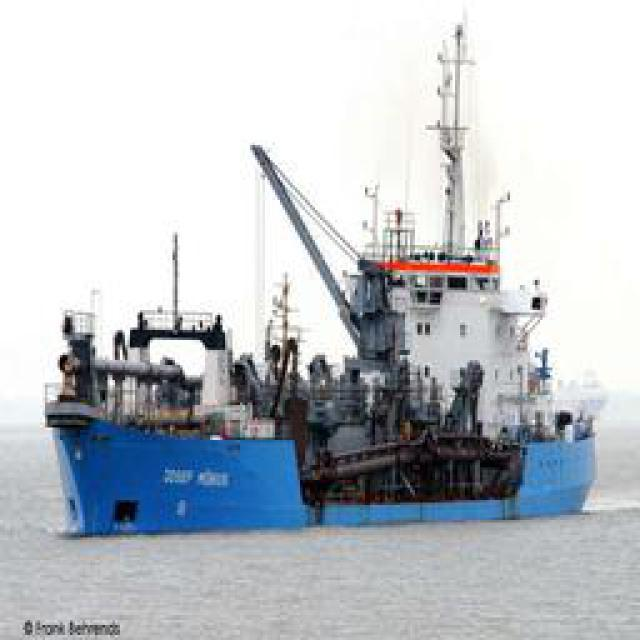Ship: (47, 150, 610, 550)
